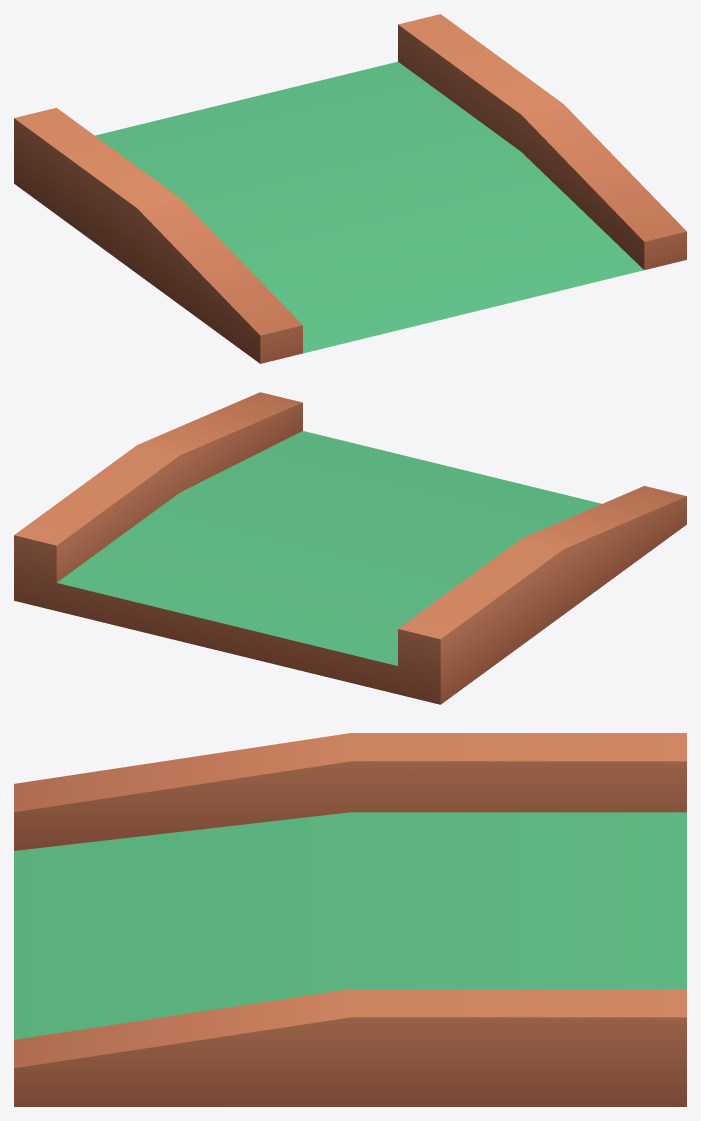
File: start.glb
3 views of the same model, one above another, from view 1: azimuth 30°, elevation 25°; view 2: azimuth 150°, elevation 25°; view 3: azimuth 270°, elevation 25° (orthographic). The views are drawn at different scales.
Parts seen in each view (by area): view 1: start; view 2: start; view 3: start.
Part boxes in pixels (x1,y1,x2,y2): start: (14, 14, 686, 363); start: (14, 392, 686, 704); start: (14, 733, 686, 1106).
Bounding box in the file's own units: 0.9999 × 0.1467 × 0.9999.
Materials: 1 (1 with a texture image).
